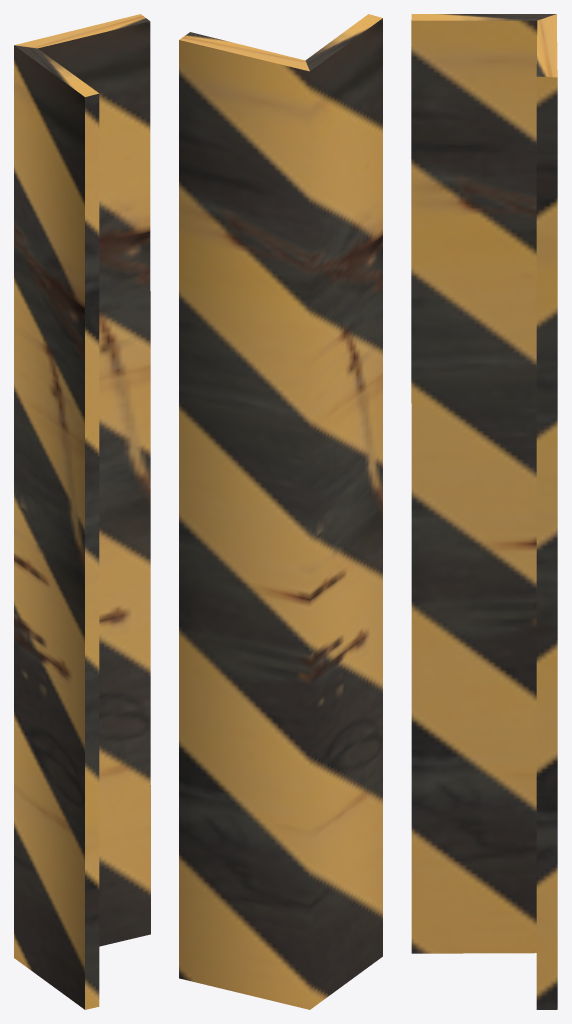
The model's file is Sign.FBX.
The picture shows the model from 3 angles, left to right: view 1: azimuth 30°, elevation 25°; view 2: azimuth 150°, elevation 25°; view 3: azimuth 270°, elevation 25°; orthographic projection. The views are drawn at different scales.
Parts seen in each view (by area): view 1: Sign; view 2: Sign; view 3: Sign.
Part boxes in pixels (x1=…): Sign: x1=14, y1=14, x2=150, y2=1009; Sign: x1=179, y1=14, x2=382, y2=1009; Sign: x1=411, y1=14, x2=557, y2=1009.
Size of the model in its own units: 16.23 by 15.83 by 111.
1 material, 1 textured.
